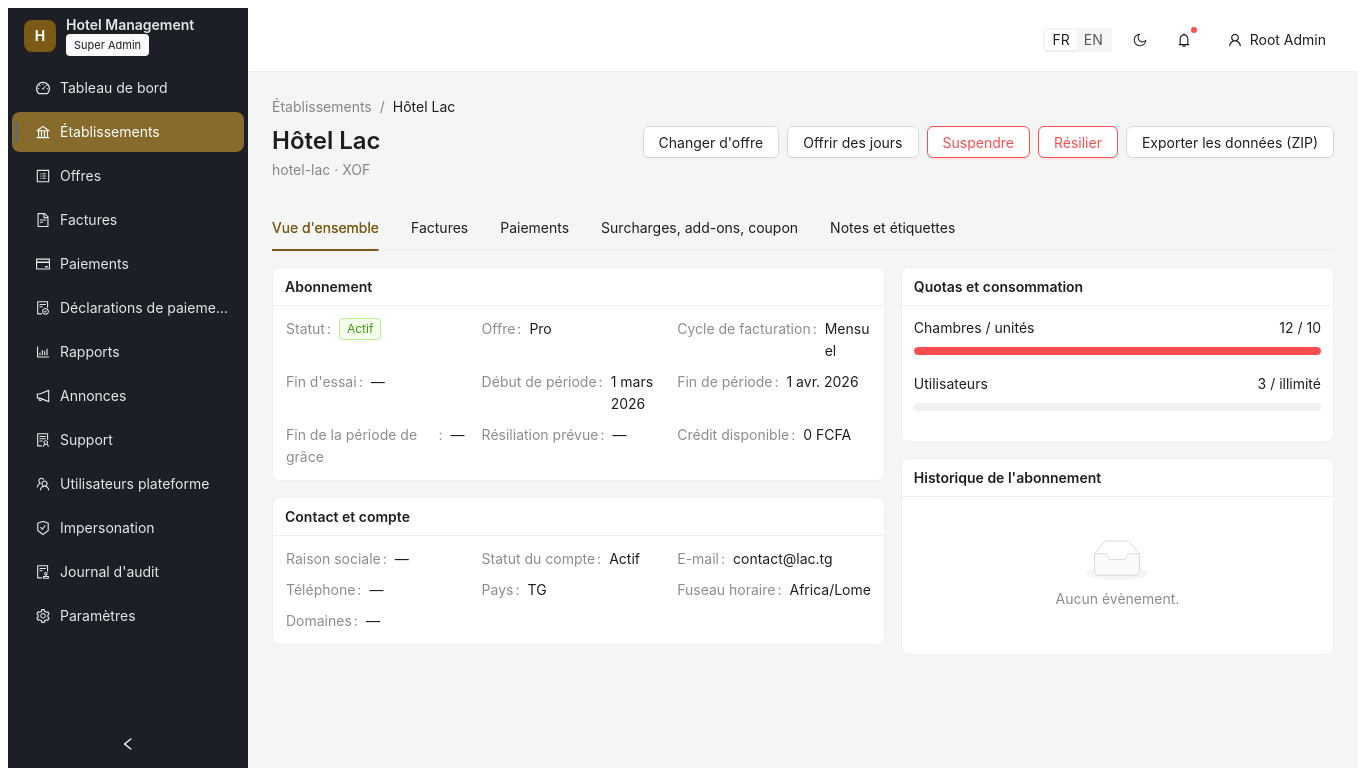
Test case: tenant detail › shows quota bars and the subscription actions to SUPER_ADMIN, suspend asks for a reason
The image size is (1366, 768).
Later steps or results of the test are not shown.
Expected: the text "Chambres / unités" is shown, [914, 317, 1034, 339]
Expected: the text "12 / 10" is shown, [1279, 317, 1321, 339]
Click the button "Suspendre". click: (978, 142)
box: [926, 126, 1030, 158]
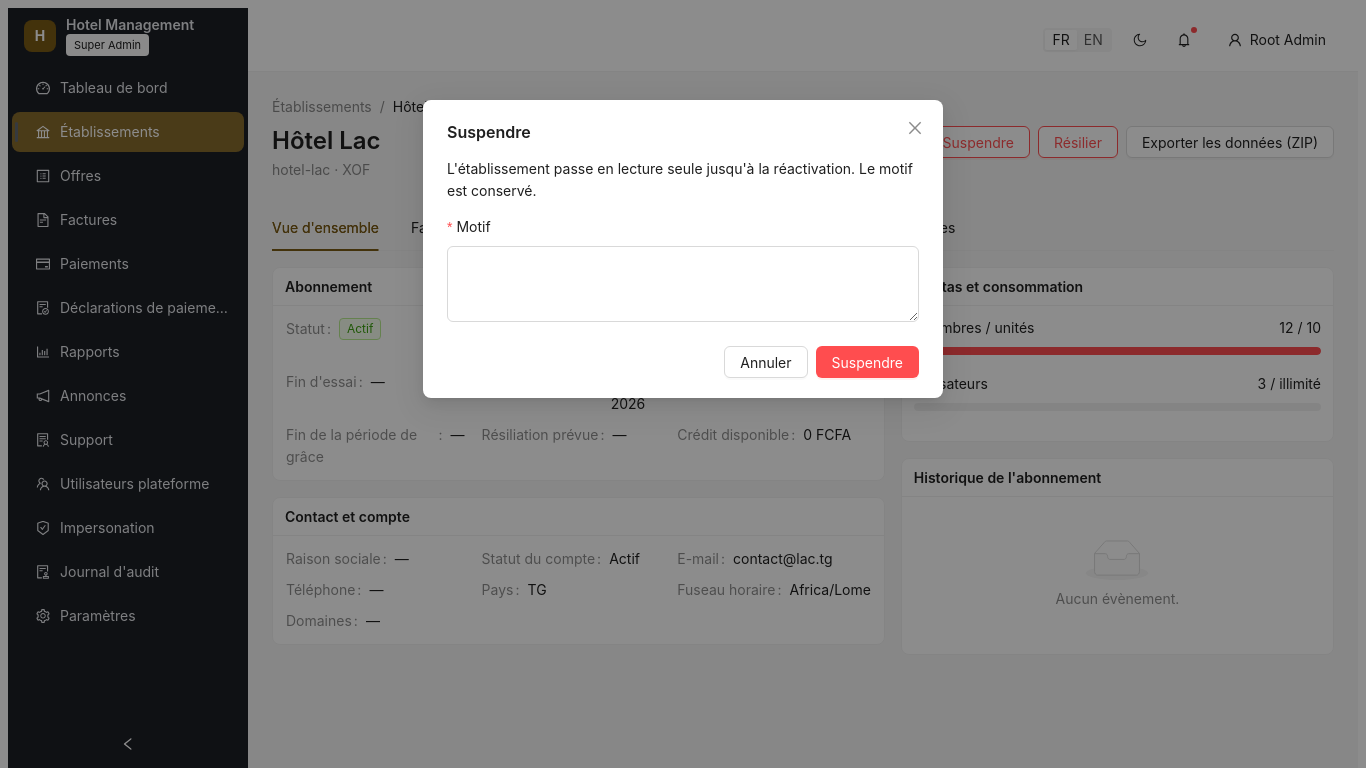
Click the button "Suspendre". click: (867, 362)
box: [816, 346, 919, 378]
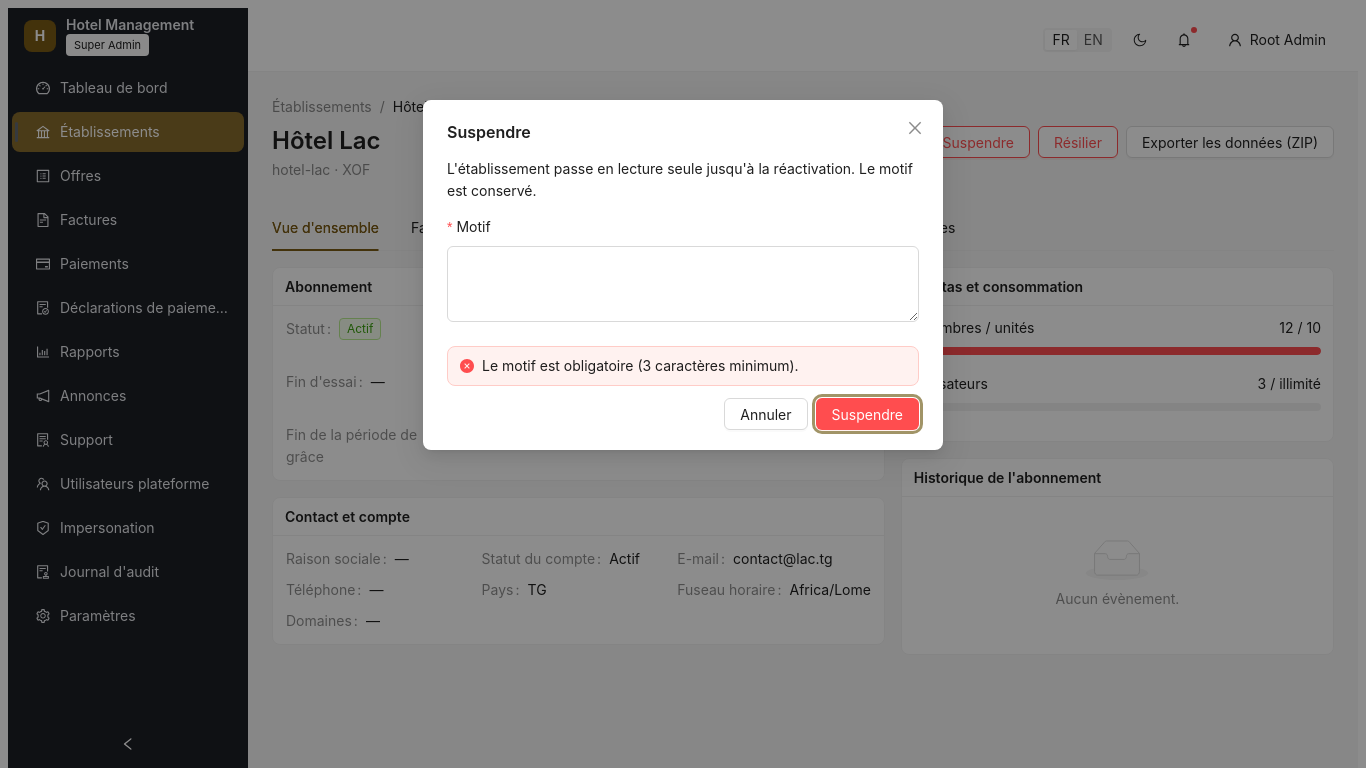
Now the text "Le motif est obligatoire (3 caractères minimum)." is shown, box [482, 357, 799, 374]
